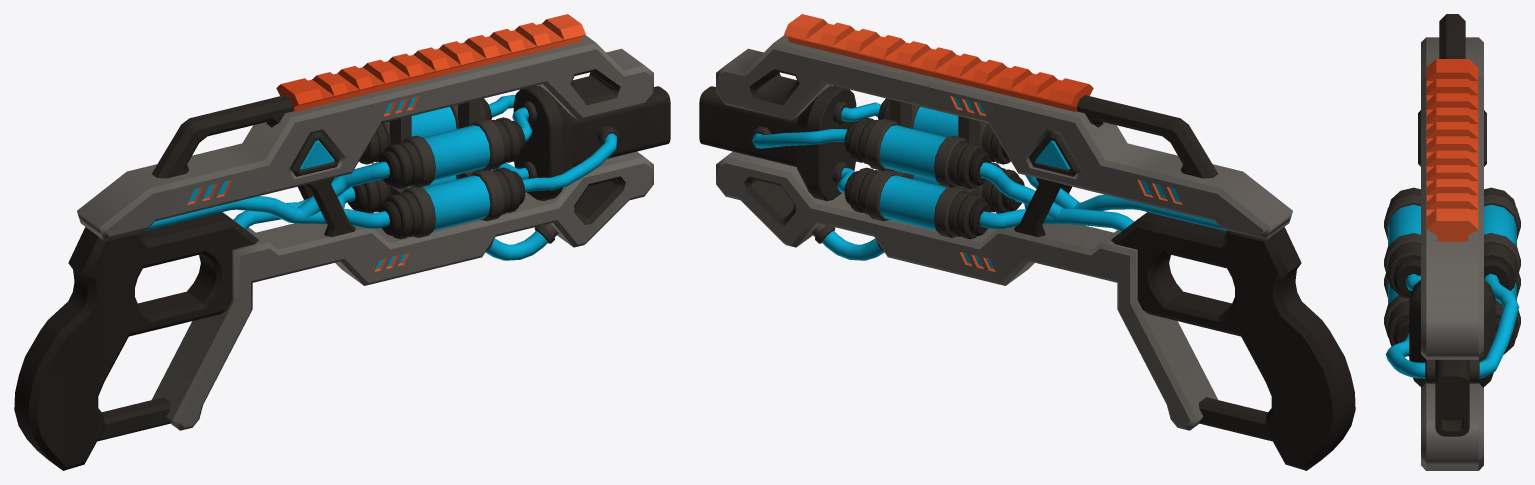
The model's file is SMG11_Base.fbx.
3 views of the same model, side by side, from view 1: azimuth 30°, elevation 25°; view 2: azimuth 150°, elevation 25°; view 3: azimuth 270°, elevation 25° (orthographic). The views are drawn at different scales.
Parts seen in each view (by area): view 1: SMG11_Base; view 2: SMG11_Base; view 3: SMG11_Base.
Boxes of the visible parts, x1=… form: SMG11_Base: x1=14, y1=14, x2=670, y2=470; SMG11_Base: x1=699, y1=14, x2=1355, y2=470; SMG11_Base: x1=1384, y1=14, x2=1520, y2=470.
Bounding box in the file's own units: 43.24 × 20.61 × 6.91.
